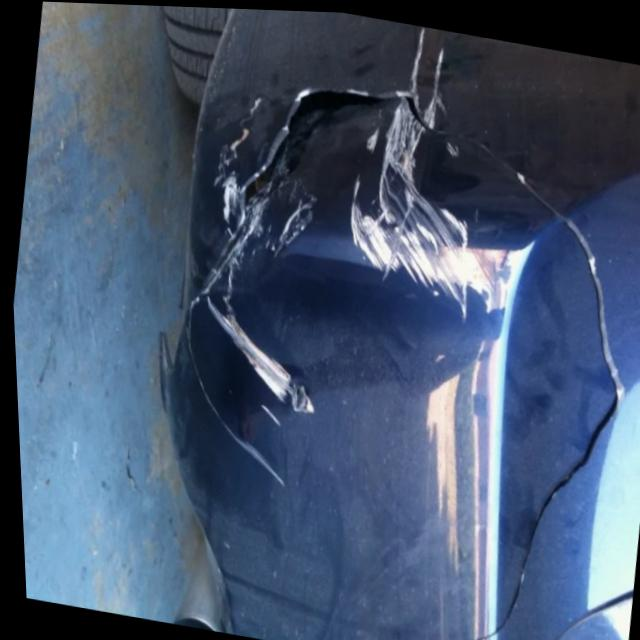Crack: (469, 194, 626, 640), (180, 75, 448, 319)
Scratch: (179, 84, 327, 493), (345, 26, 511, 322)
